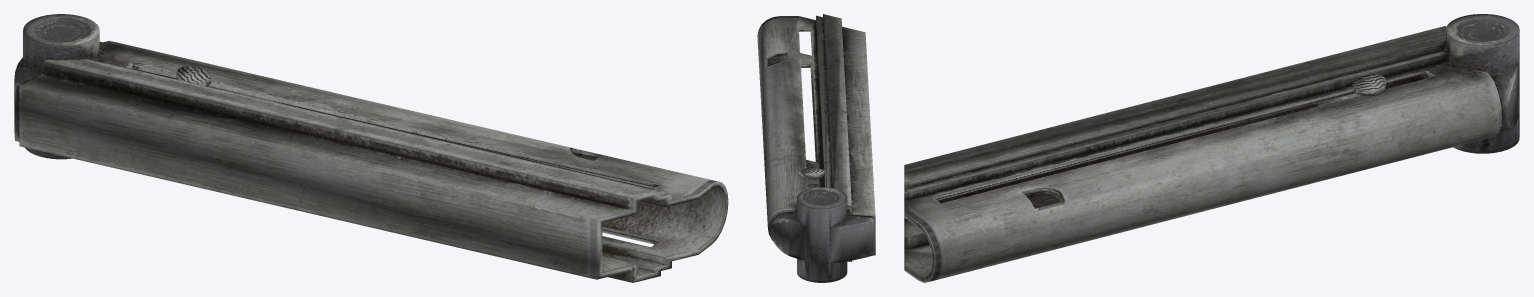
The model's file is Mag9mmx8.fbx.
The picture shows the model from 3 angles, left to right: view 1: azimuth 30°, elevation 25°; view 2: azimuth 150°, elevation 25°; view 3: azimuth 270°, elevation 25°; orthographic projection. The views are drawn at different scales.
Visible parts, largest first — view 1: ReducedMag; view 2: ReducedMag; view 3: ReducedMag.
Part boxes in pixels (box(x1,y1,x2,y2)): ReducedMag: box(14, 14, 728, 282); ReducedMag: box(757, 14, 875, 282); ReducedMag: box(904, 14, 1519, 282).
Size of the model in its own units: 0.0753 by 0.0183 by 0.0937.
